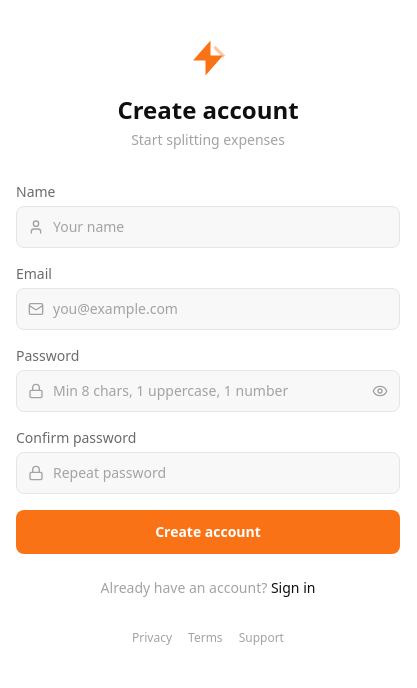
Scenario: RegisterPage registration flow and confirmation UI › displays safe generic error message on generic signup failure
The width and height of the screenshot is (417, 688).
Type "Jane Doe" into the field labelled "Name" at (208, 227), box [16,206,400,248]
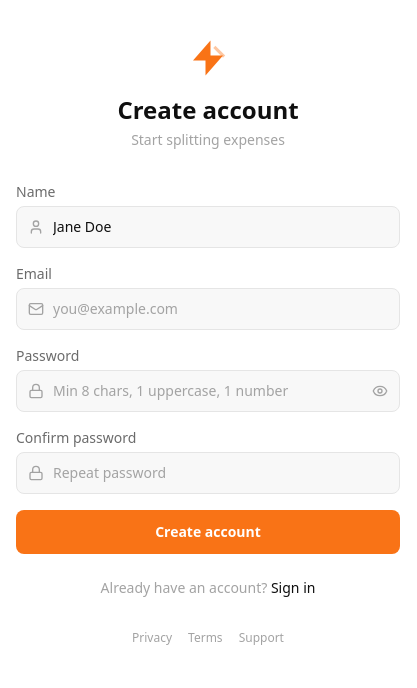
Type "jane@example.com" into the field labelled "Email" at (208, 309), box [16,288,400,330]
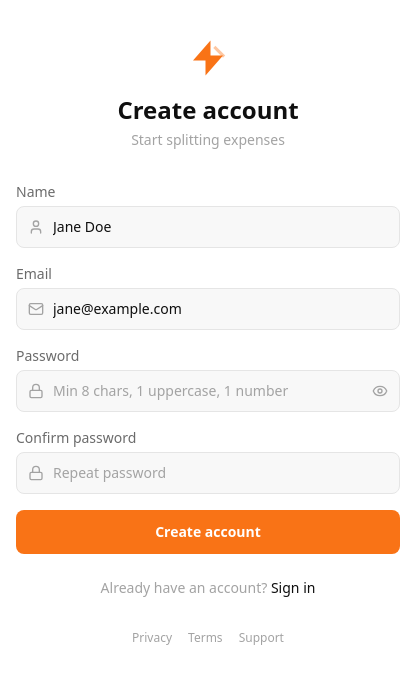
Type "Secret123" into the password field labelled "Password" at (208, 391), box [16,370,400,412]
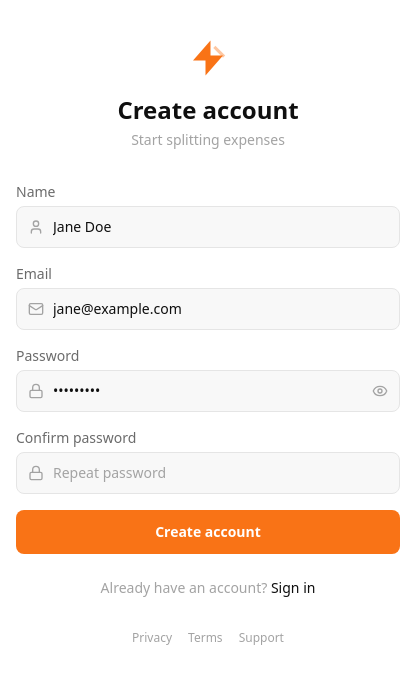
Type "Secret123" into the password field labelled "Confirm password" at (208, 473), box [16,452,400,494]
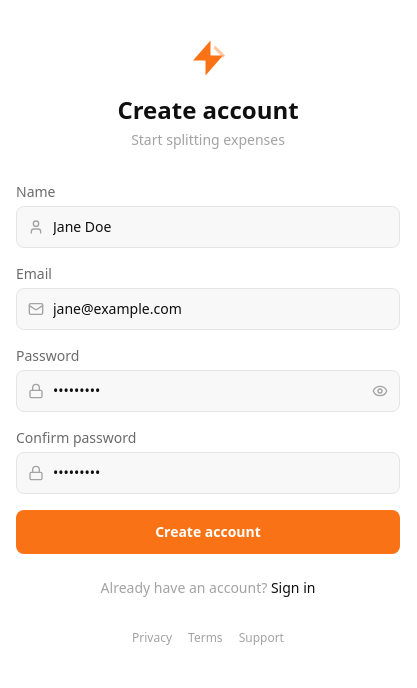
Click the button "Create account" at (208, 532), box [16,510,400,554]
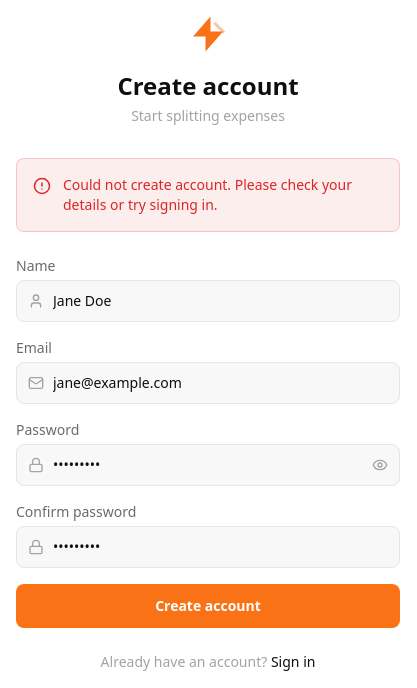
Expected: the text "Could not create account. Please check your details" is shown, [63,175,352,214]
